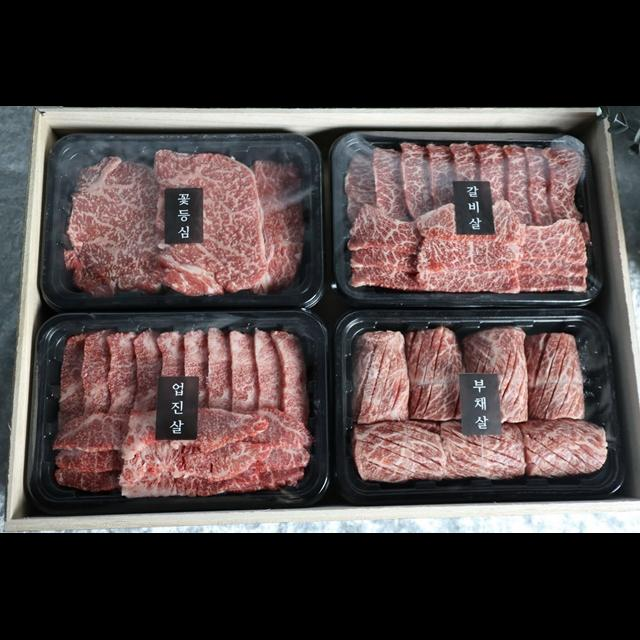beef: (53, 129, 606, 492)
